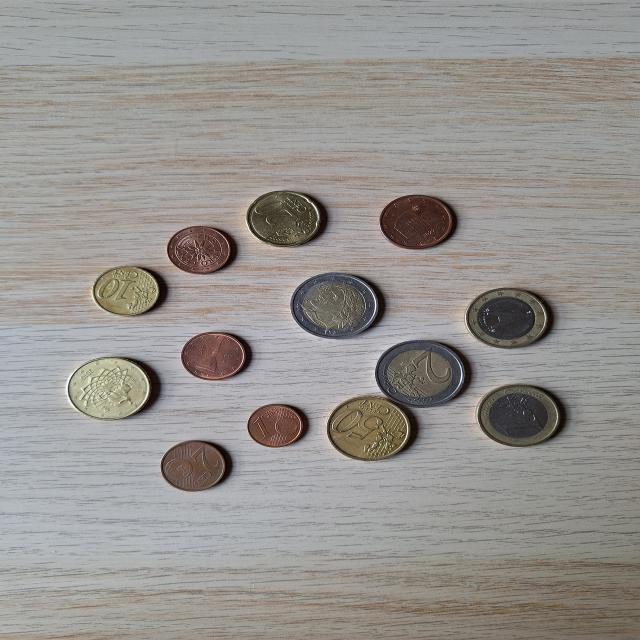10c: (91, 264, 164, 316)
1c: (246, 404, 306, 446)
1e: (476, 384, 562, 447), (466, 287, 550, 347)
20c: (246, 190, 325, 248)
2c: (167, 224, 236, 276), (160, 440, 229, 490), (182, 330, 248, 380)
2e: (374, 339, 468, 407), (290, 271, 382, 339)
50c: (325, 394, 413, 461), (66, 356, 154, 420)
5c: (378, 192, 456, 252)
